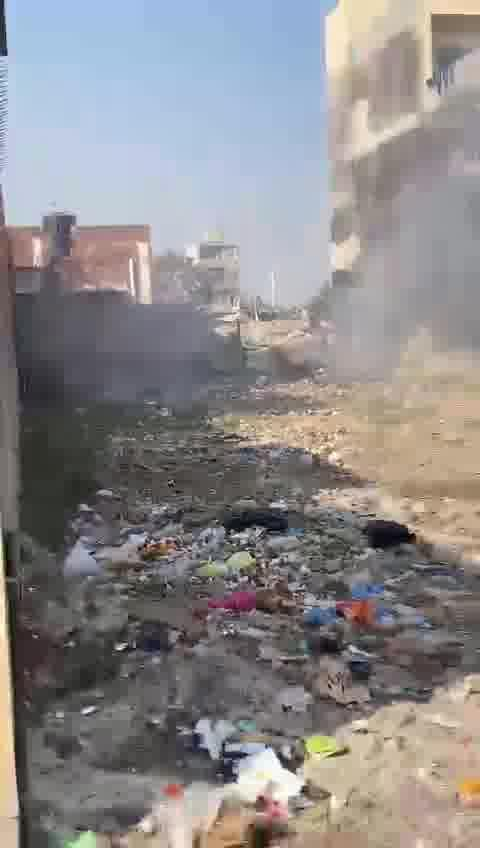garbage: (25, 398, 480, 848)
